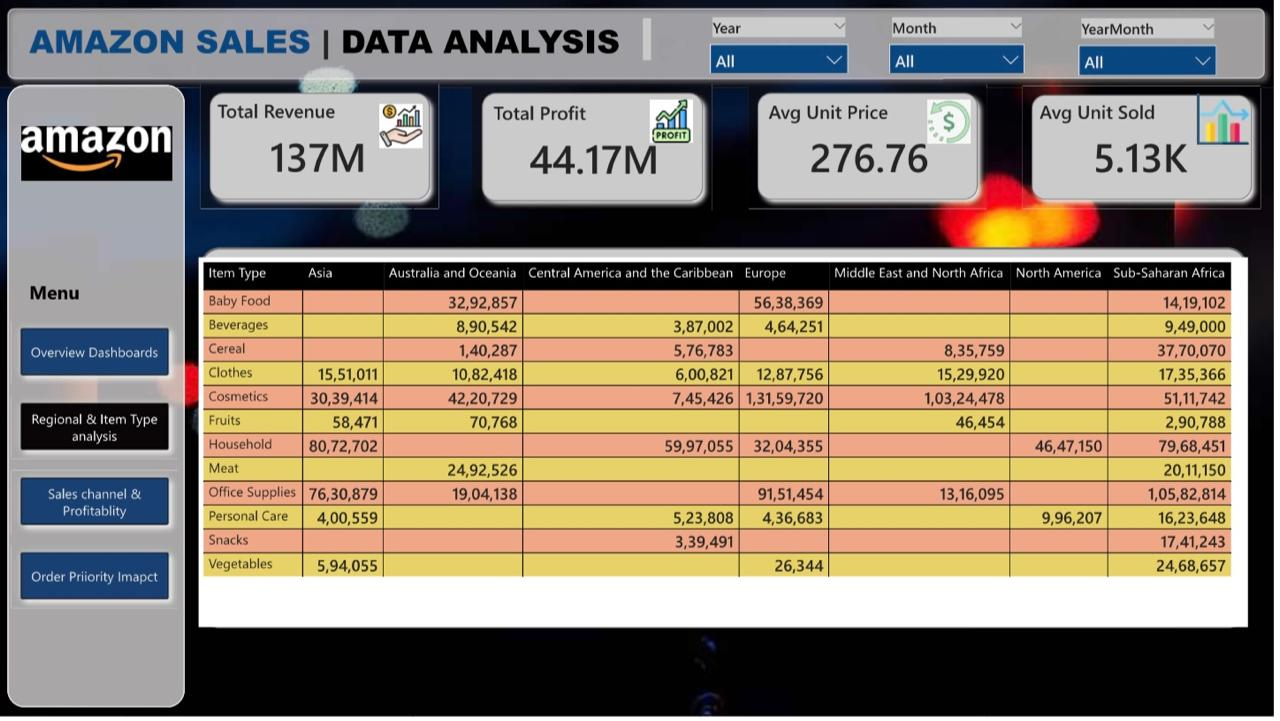

The page's visual inventory and layout, read from the dashboard file:
{"tool":"powerbi","page":{"name":"Regional & Item Type analysis","canvas":[1280,720],"ordinal":1},"visuals":[{"type":"shape","box":[0,0,1279.8,89.3],"z":0},{"type":"shape","box":[8.5,86.5,178.6,625],"z":1000},{"type":"shape","box":[202.7,85.5,239.5,124.7],"z":2000},{"type":"shape","box":[476.2,85.5,239.5,126.1],"z":3000},{"type":"shape","box":[752.6,85.5,239.5,124.7],"z":4000},{"type":"shape","box":[1027.6,86.9,239.5,123.3],"z":5000},{"type":"card","title":"Total Revenue","fields":{"Values":["Sum(Amazon Sales Records for internship projects 2.Total Revenue)"]},"box":[214.8,99,212.6,96.4],"z":6000},{"type":"card","title":"Total Profit","fields":{"Values":["Sum(Amazon Sales Records for internship projects 2.Total Profit)"]},"box":[491.8,100.6,212.6,96.4],"z":7000},{"type":"card","title":"Avg Unit Price","fields":{"Values":["Avg(Amazon Sales Records for internship projects 2.Unit Price)"]},"box":[767.6,100.5,212.6,95],"z":8000},{"type":"card","title":"Avg Unit Sold","fields":{"Values":["Avg(Amazon Sales Records for internship projects 2.Units Sold)"]},"box":[1039.7,100.5,212.6,95],"z":9000},{"type":"shape","box":[202.9,248.6,1050,382.9],"z":10000},{"type":"textbox","box":[25.5,14.2,635,60.9],"z":11000},{"type":"image","box":[18.4,95,161.6,119.1],"z":12000},{"type":"slicer","fields":{"Values":["Amazon Sales Records for internship projects 2.Year"]},"box":[704.3,12.9,158.6,61.4],"z":13000},{"type":"slicer","fields":{"Values":["Amazon Sales Records for internship projects 2.Month"]},"box":[884.3,12.9,155.7,61.4],"z":14000},{"type":"pivotTable","fields":{"Rows":["Amazon Sales Records for internship projects 2.Item Type"],"Values":["Sum(Amazon Sales Records for internship projects 2.Total Revenue)"],"Columns":["Amazon Sales Records for internship projects 2.Region"]},"box":[201.4,258.6,1052.9,371.4],"z":15000},{"type":"slicer","fields":{"Values":["Amazon Sales Records for internship projects 2.YearMonth"]},"box":[1074.3,14.3,158.6,61.4],"z":16000},{"type":"pageNavigator","box":[12.9,321.4,167.1,291.4],"z":17000},{"type":"textbox","box":[25.7,275.7,154.3,45.7],"z":18000},{"type":"image","box":[354.3,100,100,54.3],"z":19000},{"type":"image","box":[620,95.7,110,52.9],"z":20000},{"type":"image","box":[914.3,95.7,78.6,54.3],"z":21000},{"type":"image","box":[1195.7,88.6,65.7,62.9],"z":22000}]}

Visuals, with their boxes in screenshot pixels (x1, y1, x2, y2), scaled from the page's 1280x720 canvas onto the 1280x721 screenshot:
shape: (0, 0, 1279, 89)
shape: (8, 87, 187, 712)
shape: (203, 86, 442, 210)
shape: (476, 86, 716, 212)
shape: (753, 86, 992, 210)
shape: (1028, 87, 1267, 210)
"Total Revenue" card: (215, 99, 427, 196)
"Total Profit" card: (492, 101, 704, 197)
"Avg Unit Price" card: (768, 101, 980, 196)
"Avg Unit Sold" card: (1040, 101, 1252, 196)
shape: (203, 249, 1253, 632)
textbox: (26, 14, 660, 75)
image: (18, 95, 180, 214)
slicer - Amazon Sales Records for internship projects 2.Year: (704, 13, 863, 74)
slicer - Amazon Sales Records for internship projects 2.Month: (884, 13, 1040, 74)
pivotTable - Amazon Sales Records for internship projects 2.Item Type x Sum(Amazon Sales Records for internship projects 2.Total Revenue): (201, 259, 1254, 631)
slicer - Amazon Sales Records for internship projects 2.YearMonth: (1074, 14, 1233, 76)
pageNavigator: (13, 322, 180, 614)
textbox: (26, 276, 180, 322)
image: (354, 100, 454, 155)
image: (620, 96, 730, 149)
image: (914, 96, 993, 150)
image: (1196, 89, 1261, 152)
